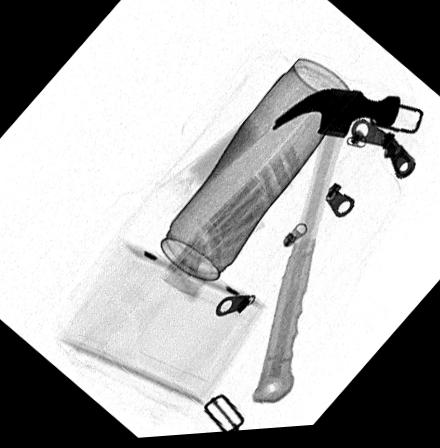Hammer: (251, 92, 401, 407)
